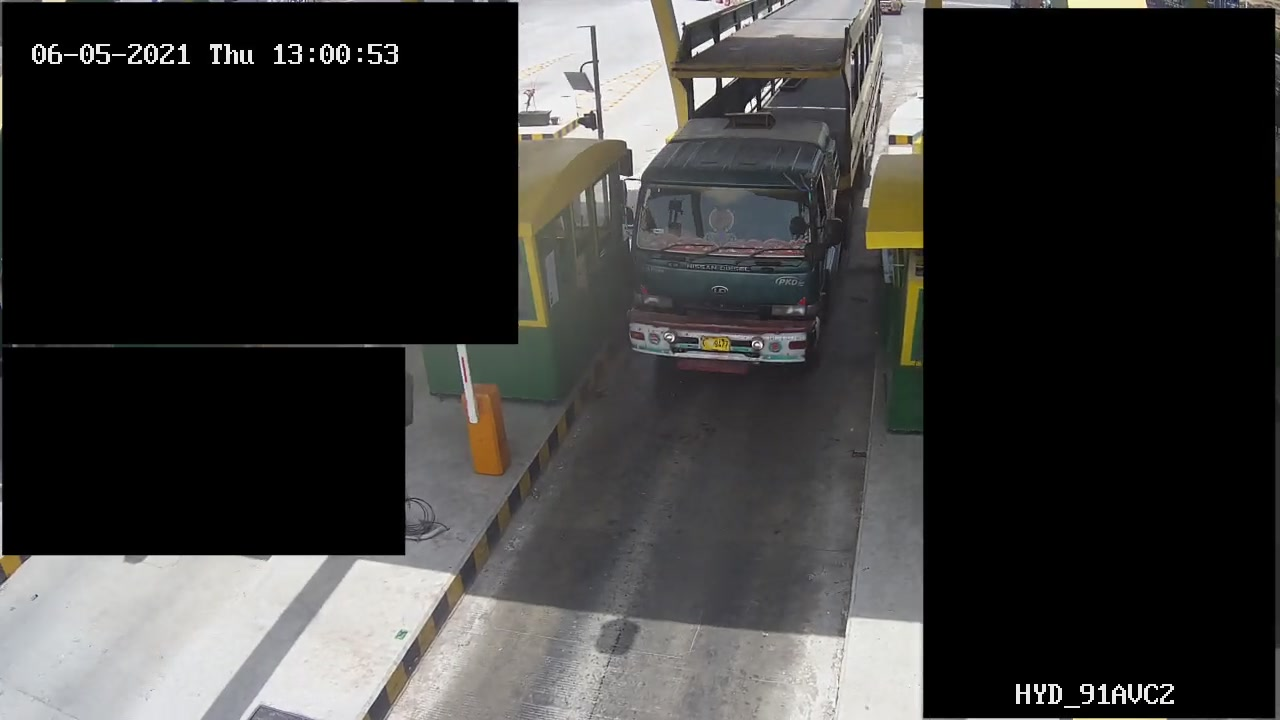F6: (625, 2, 881, 382)
